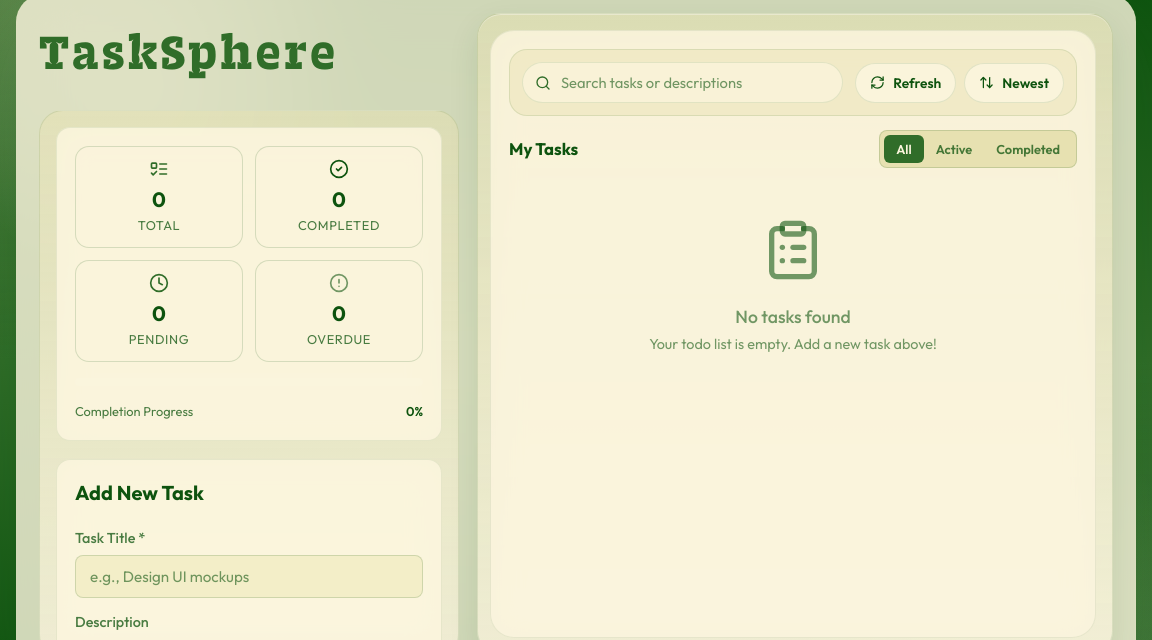
Test: MERN Todo App Integration Tests › successfully submits a new todo through form
The image size is (1152, 640).
Type "Add new task via test" into the field with placeholder "e.g., Design UI mockups" at {"x": 249, "y": 577}, box [75,555,423,598]
(page scrolled)
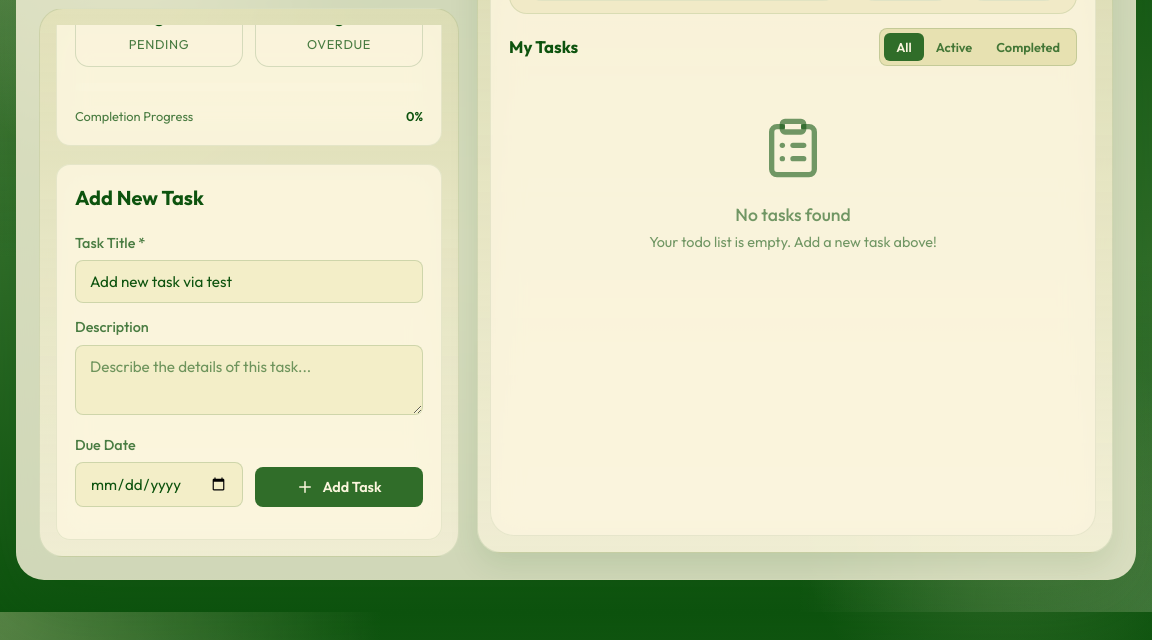
Type "Integrate front-to-back" into the text box with placeholder "Describe the details of this task..." at {"x": 249, "y": 380}, box [75,345,423,415]
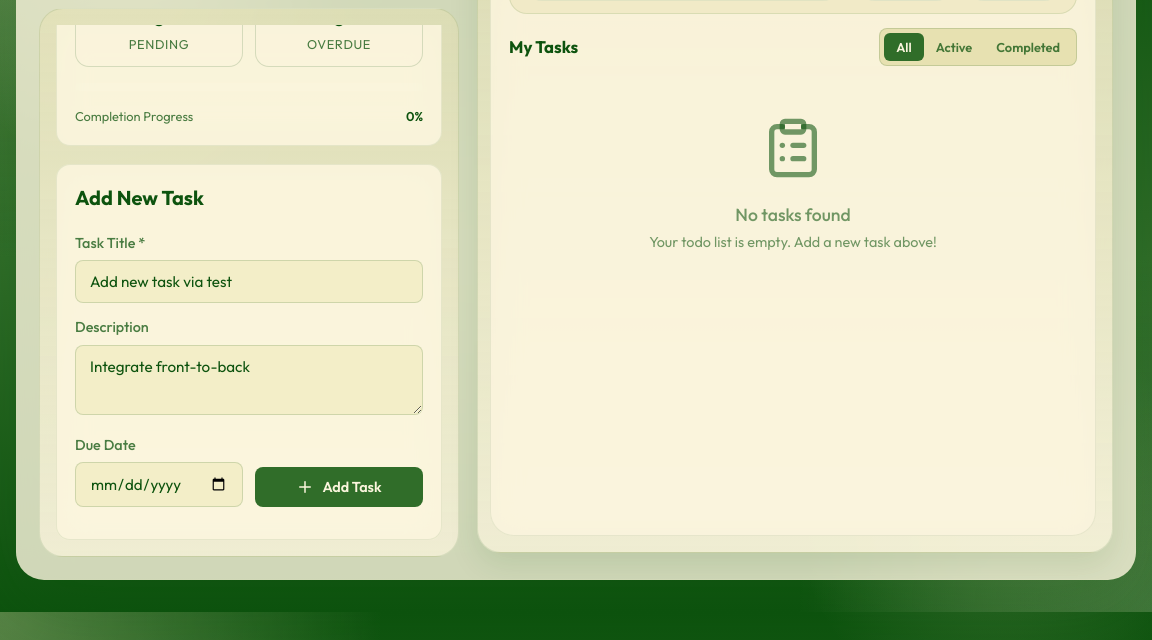
Click the button "Add Task" at {"x": 339, "y": 487}, box [255,467,423,507]
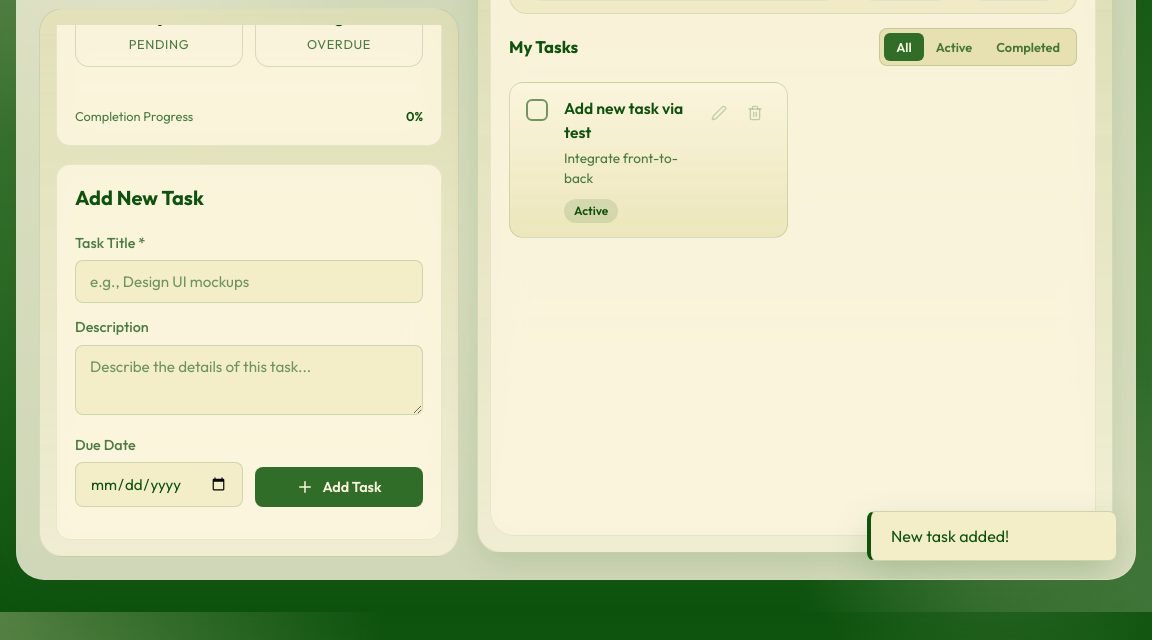
Expected: the heading "Add new task via test" is shown, [564,97,687,144]
Expected: the text "Integrate front-to-back" is shown, [564,148,687,189]
